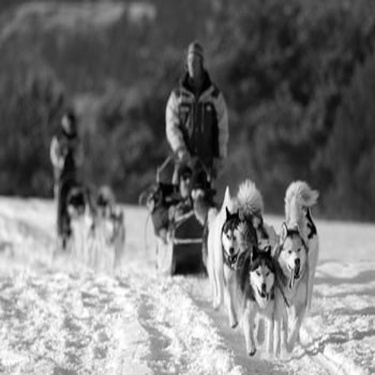dog: (269, 173, 322, 351), (202, 183, 249, 314), (239, 239, 283, 360), (234, 177, 283, 278), (222, 202, 253, 328), (58, 182, 98, 270), (84, 177, 118, 267), (103, 198, 131, 276)
